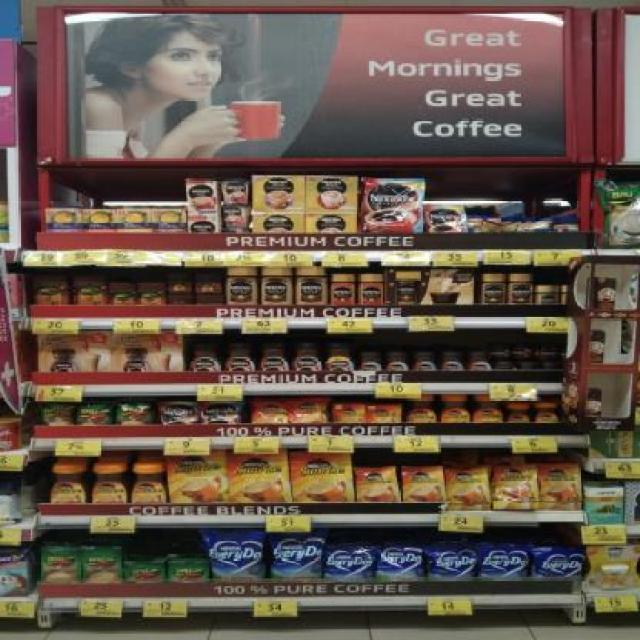Coffee: (363, 178, 424, 232), (295, 452, 352, 503), (231, 452, 287, 503), (171, 455, 226, 502), (494, 467, 538, 510), (542, 465, 582, 510), (448, 471, 489, 510), (93, 465, 128, 504), (403, 467, 442, 502), (51, 465, 86, 502), (359, 468, 396, 501), (133, 466, 164, 504), (227, 266, 256, 304), (297, 267, 326, 304), (263, 267, 292, 304), (427, 206, 467, 232), (202, 401, 241, 424), (159, 402, 198, 425), (254, 400, 290, 424), (293, 399, 327, 424), (260, 342, 289, 371), (440, 394, 469, 422), (475, 394, 504, 422), (407, 396, 436, 423), (224, 344, 254, 370), (190, 346, 220, 372), (326, 343, 354, 370), (294, 344, 321, 371), (510, 273, 532, 304), (482, 274, 504, 303), (535, 402, 560, 423), (508, 402, 530, 423), (358, 352, 382, 371), (413, 352, 436, 371), (386, 352, 409, 371), (538, 285, 560, 304), (442, 352, 464, 371), (468, 352, 489, 371), (511, 346, 531, 360), (538, 347, 558, 360), (493, 345, 509, 359)
